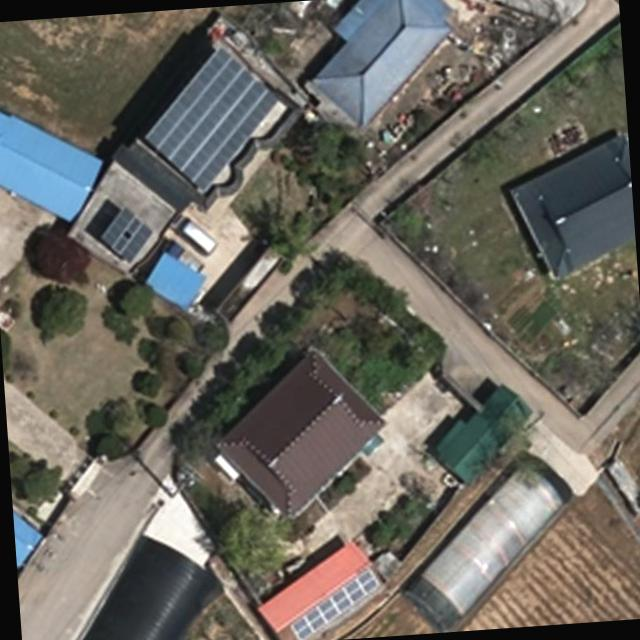solar: (134, 39, 296, 203), (283, 561, 386, 640), (96, 202, 156, 266)
